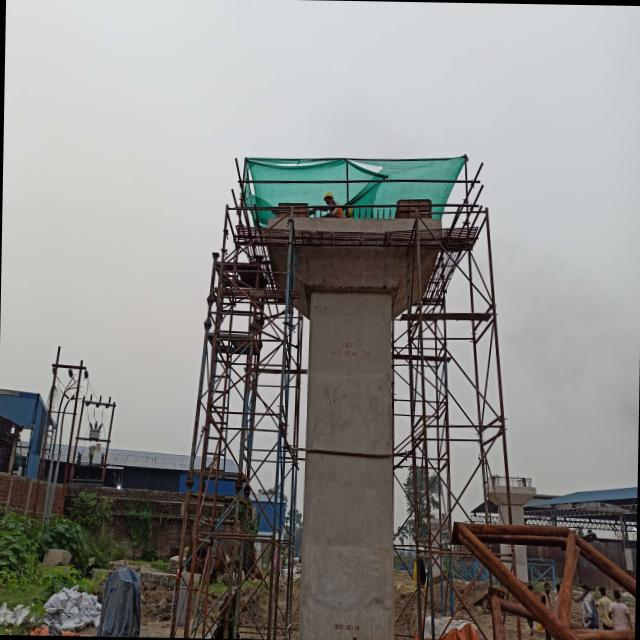cement: (292, 218, 416, 640)
grass: (0, 502, 77, 620), (44, 517, 91, 570)
red-sand: (139, 567, 174, 637), (455, 582, 490, 632), (238, 593, 263, 639), (394, 597, 416, 640), (394, 571, 414, 615), (253, 593, 267, 634), (292, 579, 299, 640), (455, 606, 470, 620), (175, 621, 183, 638)
